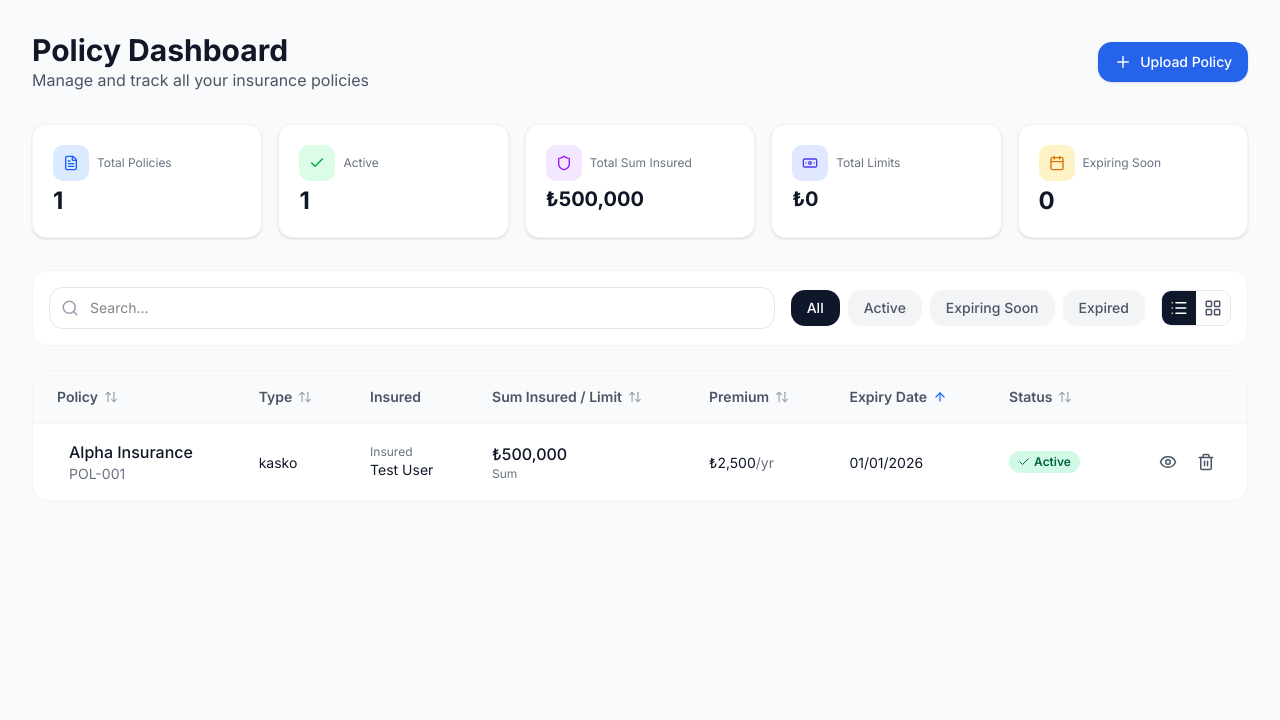
Test: PolicyDashboard Branch Coverage › Empty state › shows "adjust filters" message when search is active but no results
This screenshot has width=1280, height=720.
Type "nonexistent" into the field with placeholder "Search...". click: (412, 308)
box: 49,287 -> 775,329
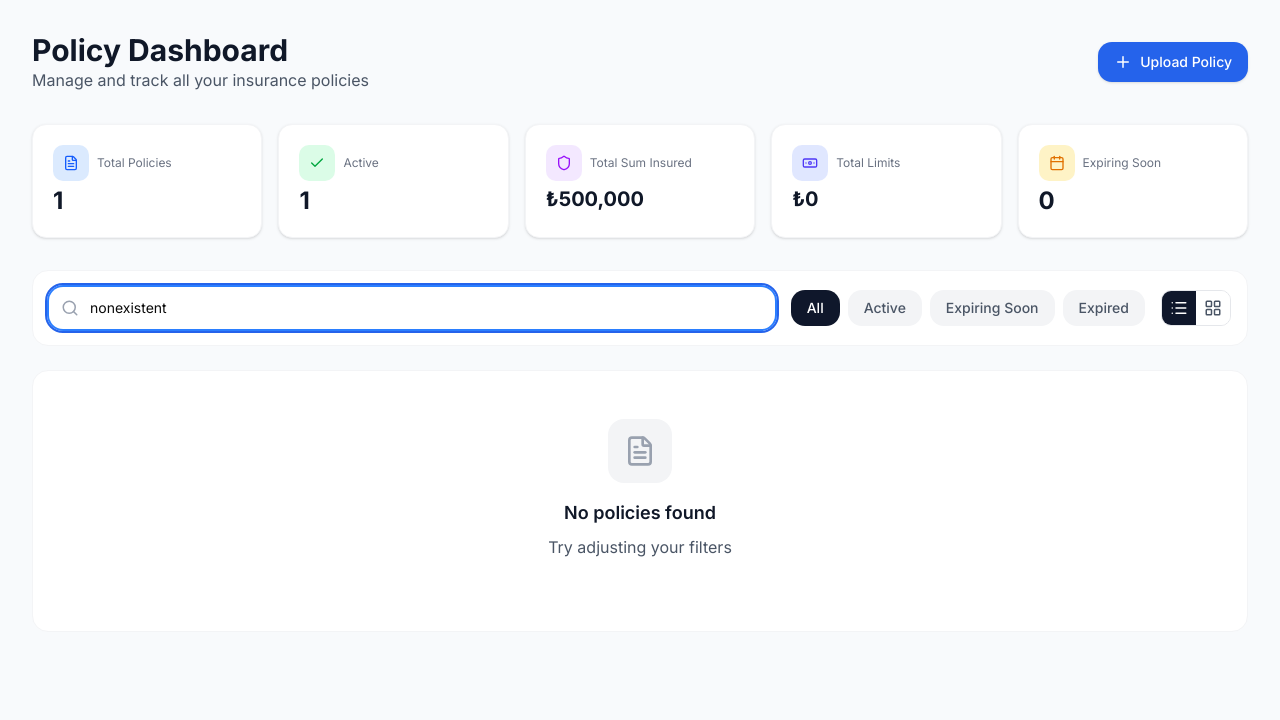
Check: the heading "No policies found" is shown, box 564,502 -> 716,523
Check: the text "Try adjusting your filters" is shown, box 548,537 -> 732,557
